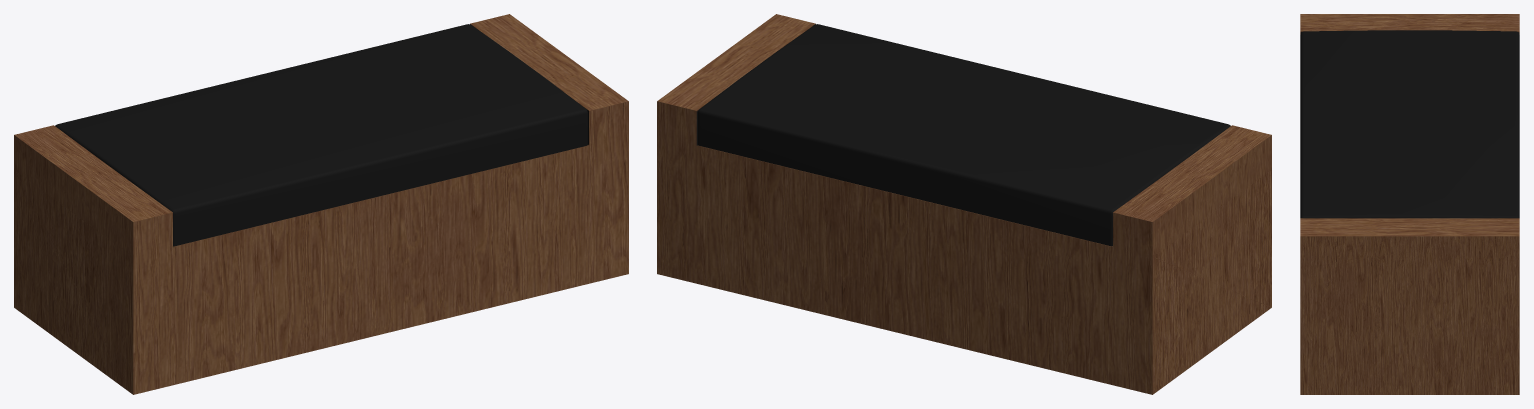
The model's file is LC_3053_benchA_LOD3.fbx.
The picture shows the model from 3 angles, left to right: view 1: azimuth 30°, elevation 25°; view 2: azimuth 150°, elevation 25°; view 3: azimuth 270°, elevation 25°; orthographic projection. The views are drawn at different scales.
Parts seen in each view (by area): view 1: LC_3053_benchA_LOD3; view 2: LC_3053_benchA_LOD3; view 3: LC_3053_benchA_LOD3.
Boxes of the visible parts, x1,y1,x2,y2 form: LC_3053_benchA_LOD3: (14,14,628,394); LC_3053_benchA_LOD3: (657,14,1271,394); LC_3053_benchA_LOD3: (1300,14,1519,394).
Size of the model in its own units: 120 by 40.56 by 50.
Materials: 1 (1 with a texture image).
